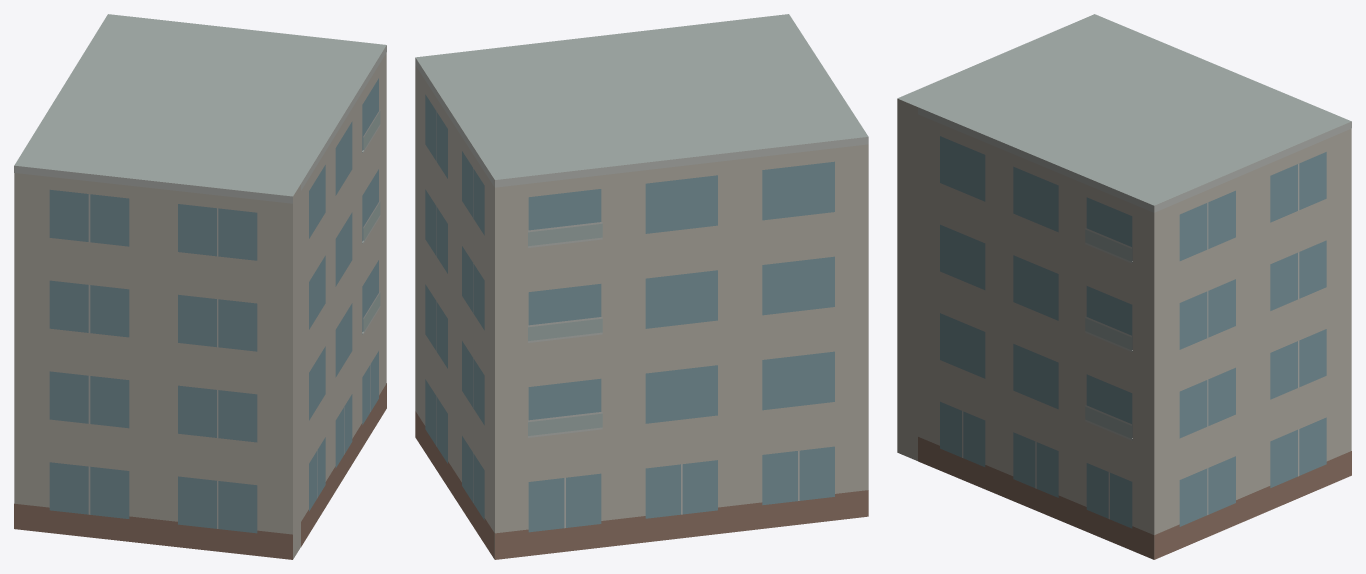
Rendered from residential-a3d66e9a-1bed-4fa2-b5f4-c27c86007e90.glb.
3 renders of one model, left to right at view 1: azimuth 30°, elevation 25°; view 2: azimuth 150°, elevation 25°; view 3: azimuth 270°, elevation 25°, orthographic. The views are drawn at different scales.
Parts seen in each view (by area): view 1: residential-a3d66e9a-1bed-4fa2-b5f4-c27c86007e90.tmp; view 2: residential-a3d66e9a-1bed-4fa2-b5f4-c27c86007e90.tmp; view 3: residential-a3d66e9a-1bed-4fa2-b5f4-c27c86007e90.tmp.
Part boxes in pixels (<box>): residential-a3d66e9a-1bed-4fa2-b5f4-c27c86007e90.tmp: <box>14,14,386,559</box>; residential-a3d66e9a-1bed-4fa2-b5f4-c27c86007e90.tmp: <box>415,14,868,559</box>; residential-a3d66e9a-1bed-4fa2-b5f4-c27c86007e90.tmp: <box>897,14,1351,559</box>.
Size of the model in its own units: 14.17 by 12.2 by 14.2.
